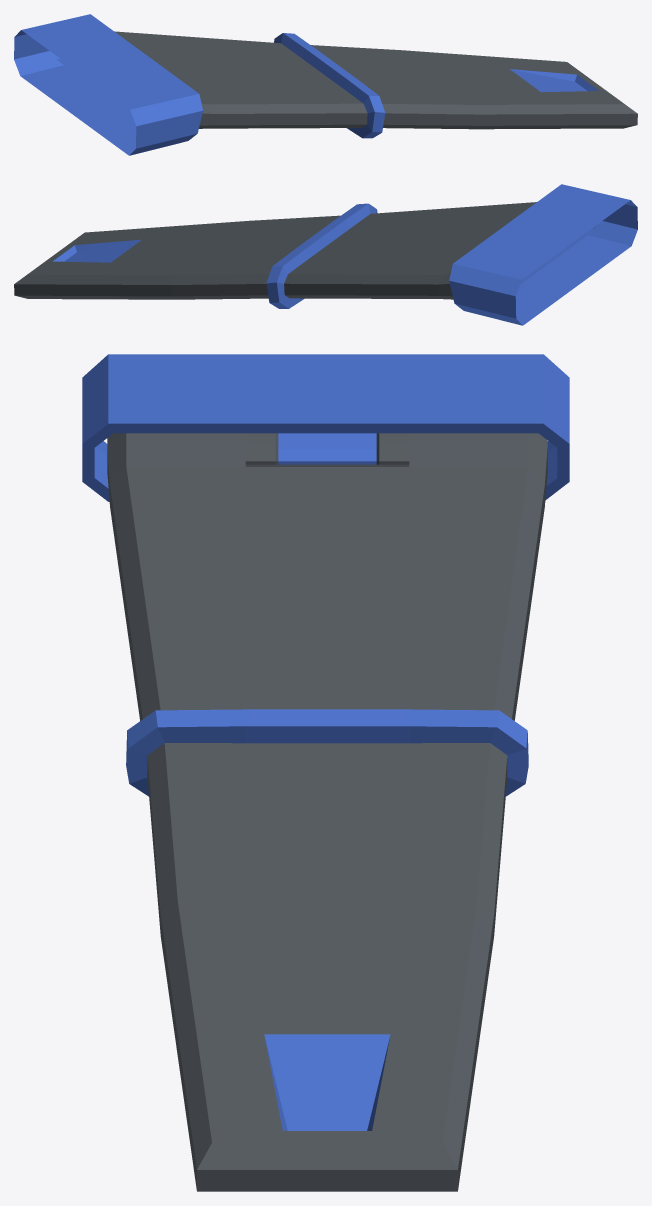
File: Fighter_04_Small_Wing_Left_Blue.fbx
The picture shows the model from 3 angles, top to bottom: view 1: azimuth 30°, elevation 25°; view 2: azimuth 150°, elevation 25°; view 3: azimuth 270°, elevation 25°; orthographic projection. The views are drawn at different scales.
Visible parts, largest first — view 1: Fighter_04_Small_Wing_Left_Blue; view 2: Fighter_04_Small_Wing_Left_Blue; view 3: Fighter_04_Small_Wing_Left_Blue.
Part boxes in pixels (<box>): Fighter_04_Small_Wing_Left_Blue: <box>14,14,637,155</box>; Fighter_04_Small_Wing_Left_Blue: <box>14,184,637,325</box>; Fighter_04_Small_Wing_Left_Blue: <box>82,354,569,1191</box>.
Size of the model in its own units: 488 by 145 by 194.
Materials: 1 (1 with a texture image).
